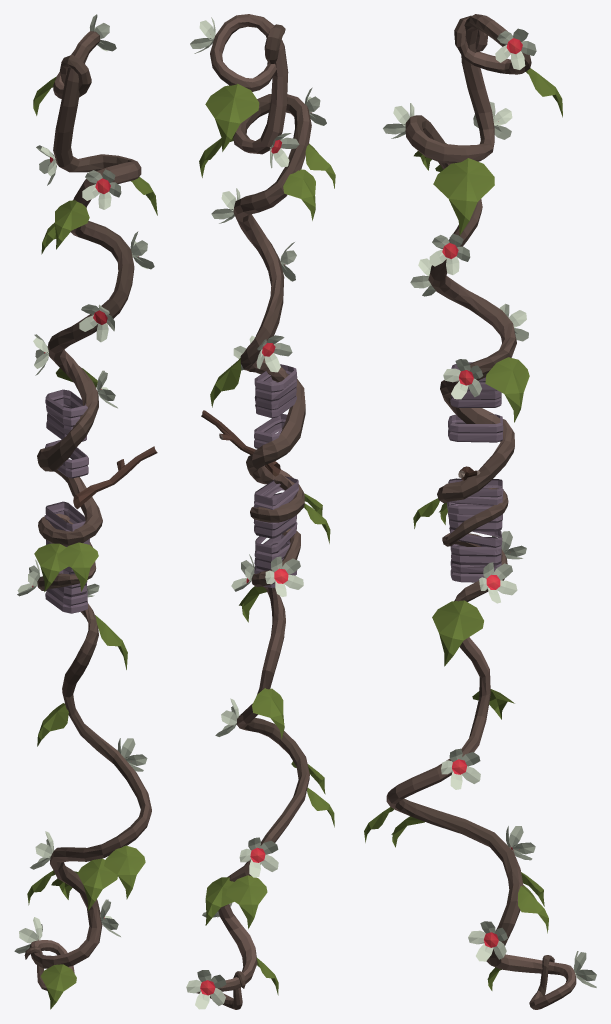
File: largeBowIvyHandle.glb
The picture shows the model from 3 angles, left to right: view 1: azimuth 30°, elevation 25°; view 2: azimuth 150°, elevation 25°; view 3: azimuth 270°, elevation 25°; orthographic projection. The views are drawn at different scales.
Visible parts, largest first — view 1: largeBowIvyHandle; view 2: largeBowIvyHandle; view 3: largeBowIvyHandle.
Boxes of the visible parts, x1,y1,x2,y2 form: largeBowIvyHandle: (14,14,157,1009); largeBowIvyHandle: (186,14,335,1009); largeBowIvyHandle: (364,14,596,1009).
Size of the model in its own units: 0.1864 by 1.42 by 0.3018.
